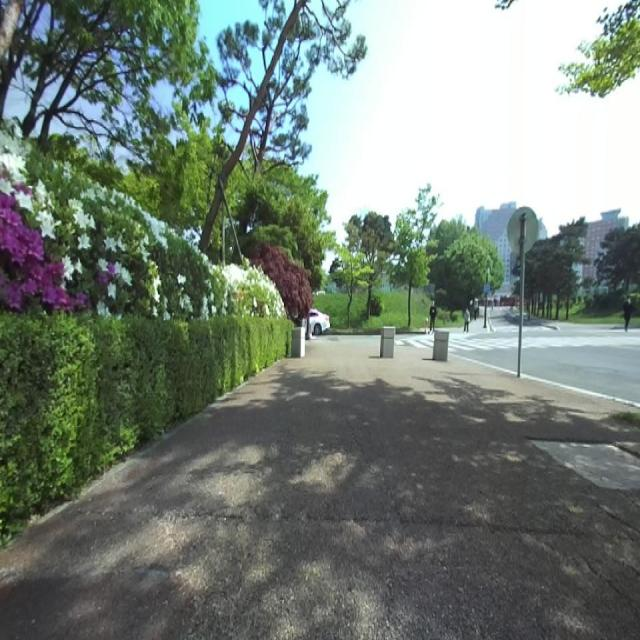sidewalk: (0, 340, 640, 639)
